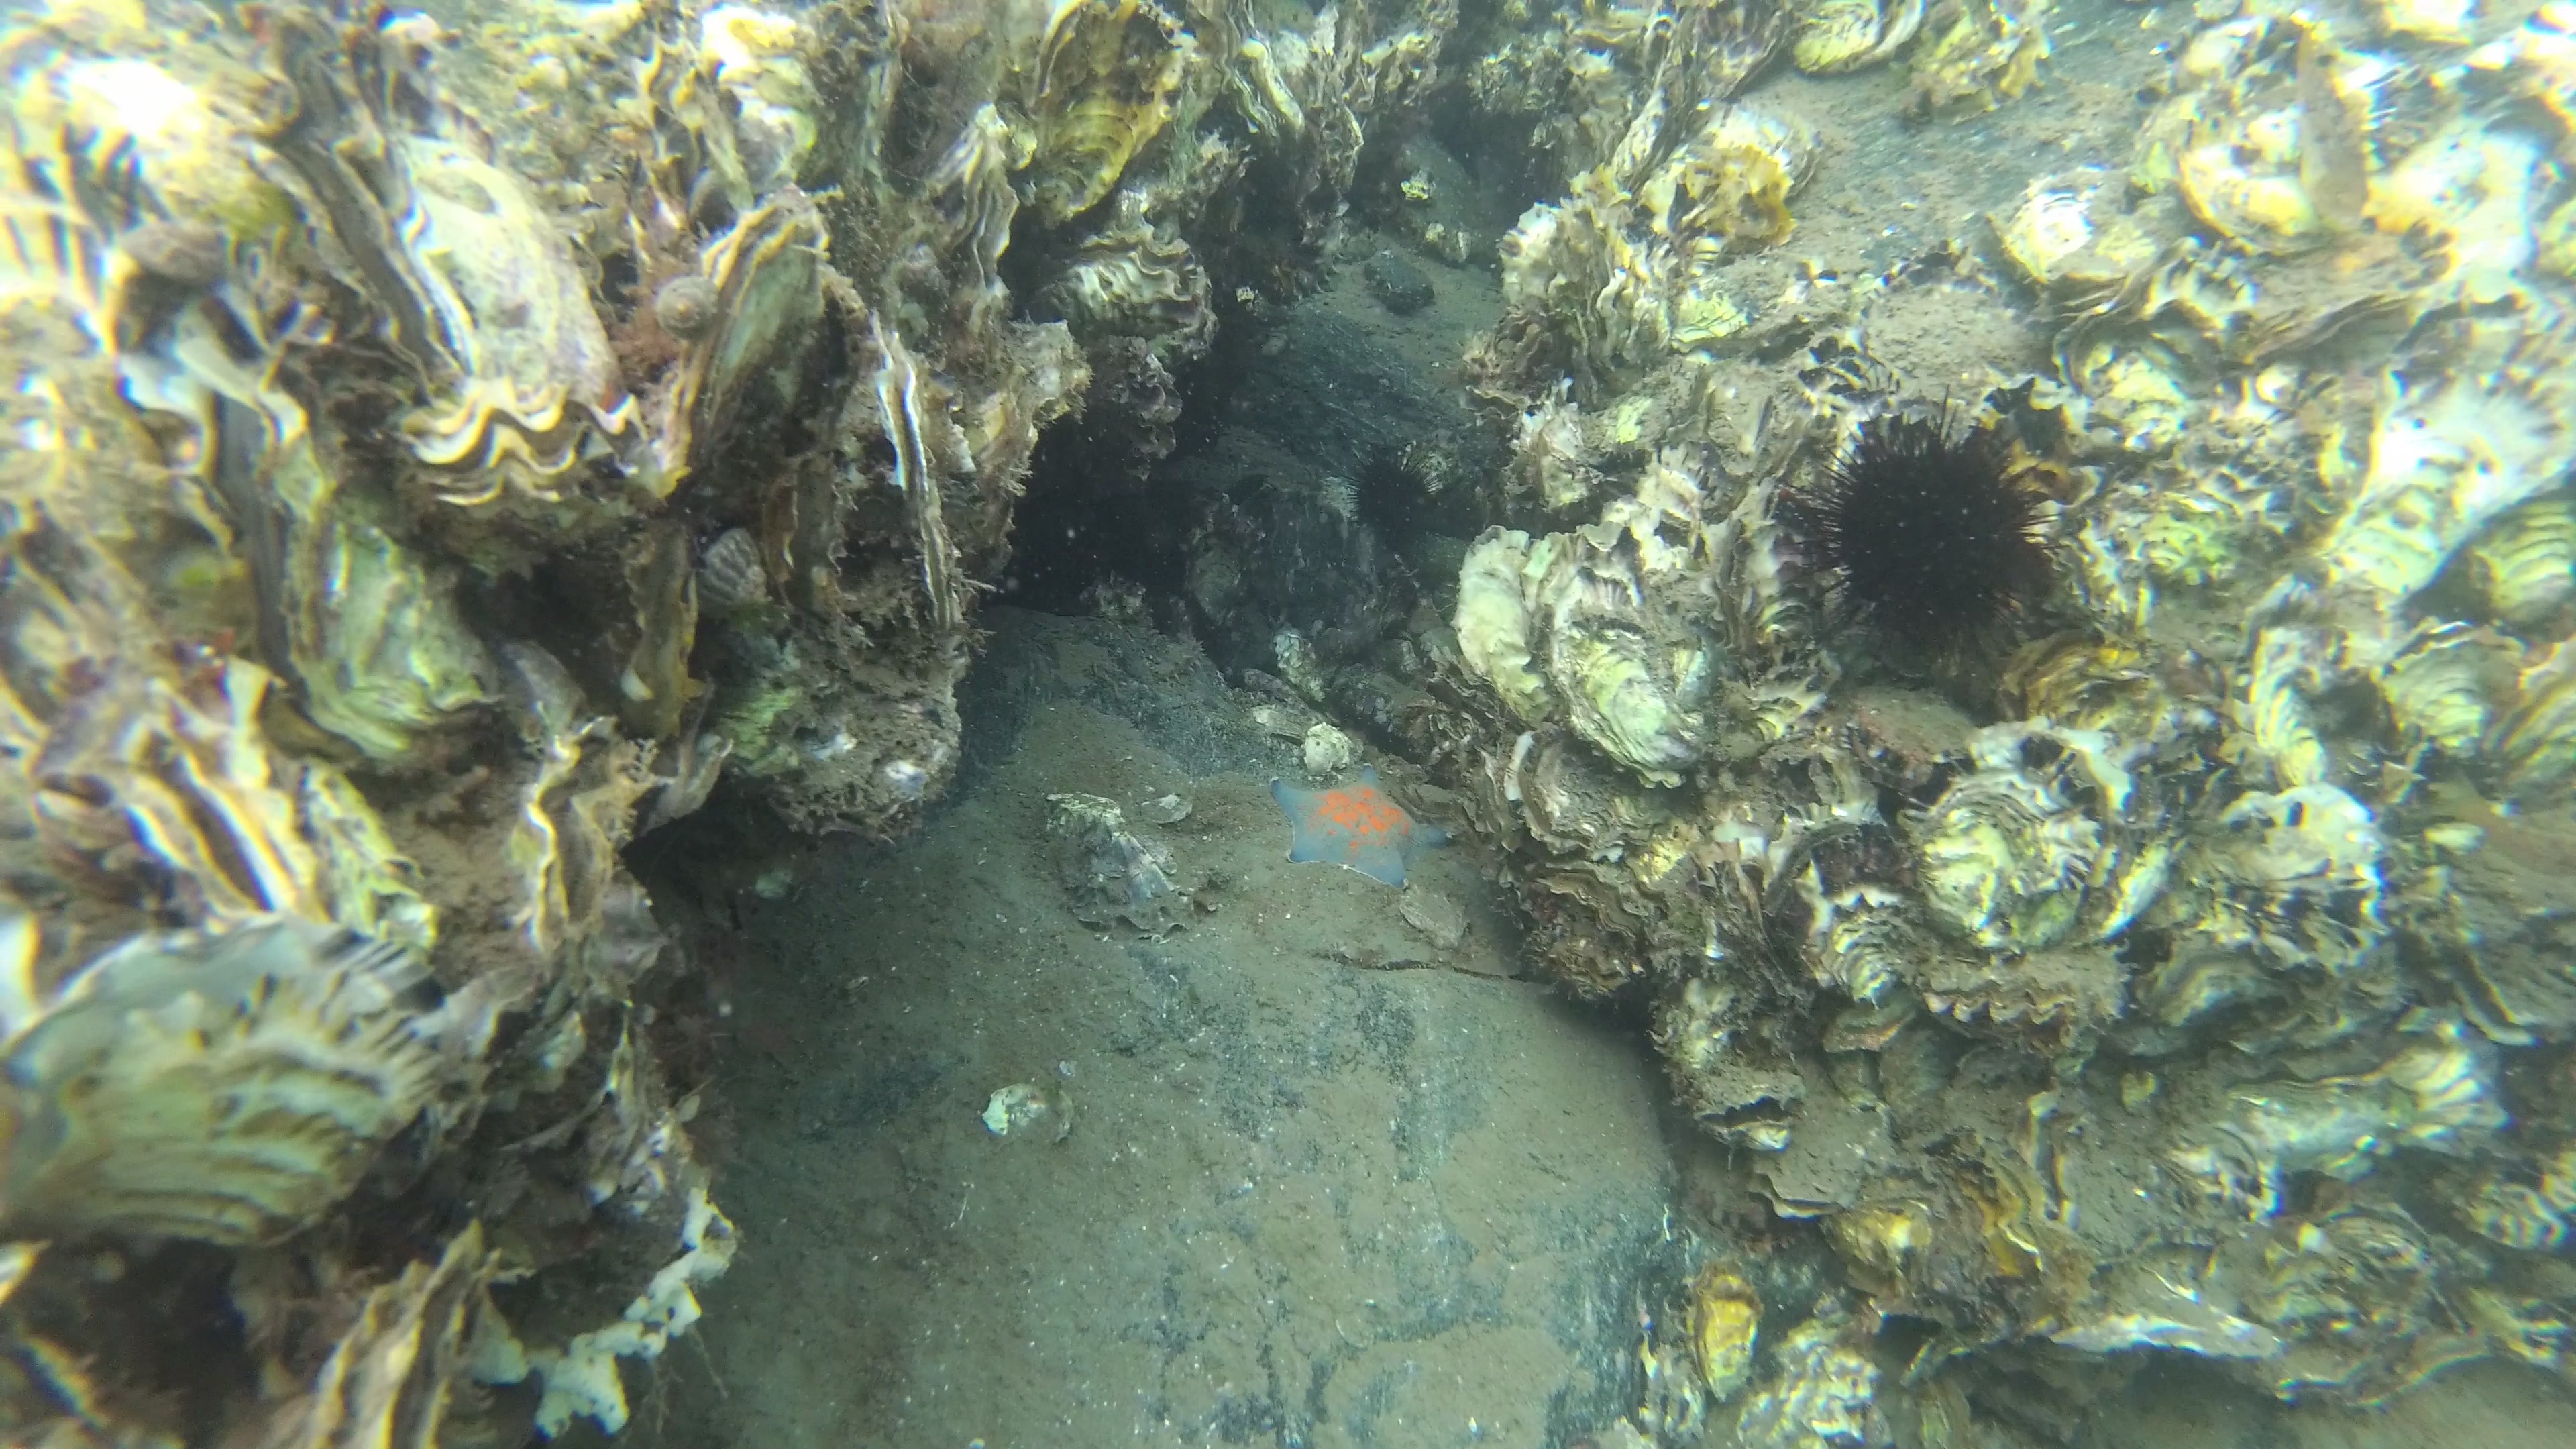echinus: (1778, 389, 2070, 665)
starfish: (1270, 763, 1463, 890)
